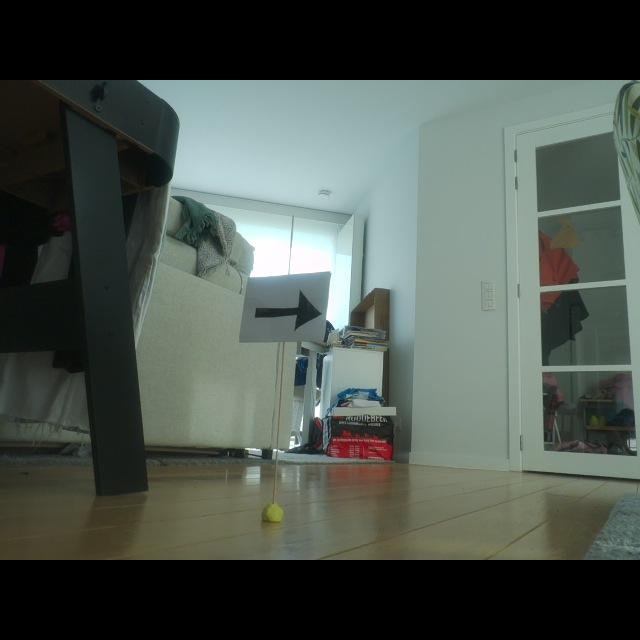jobbra_nyil: (255, 291, 320, 329)
